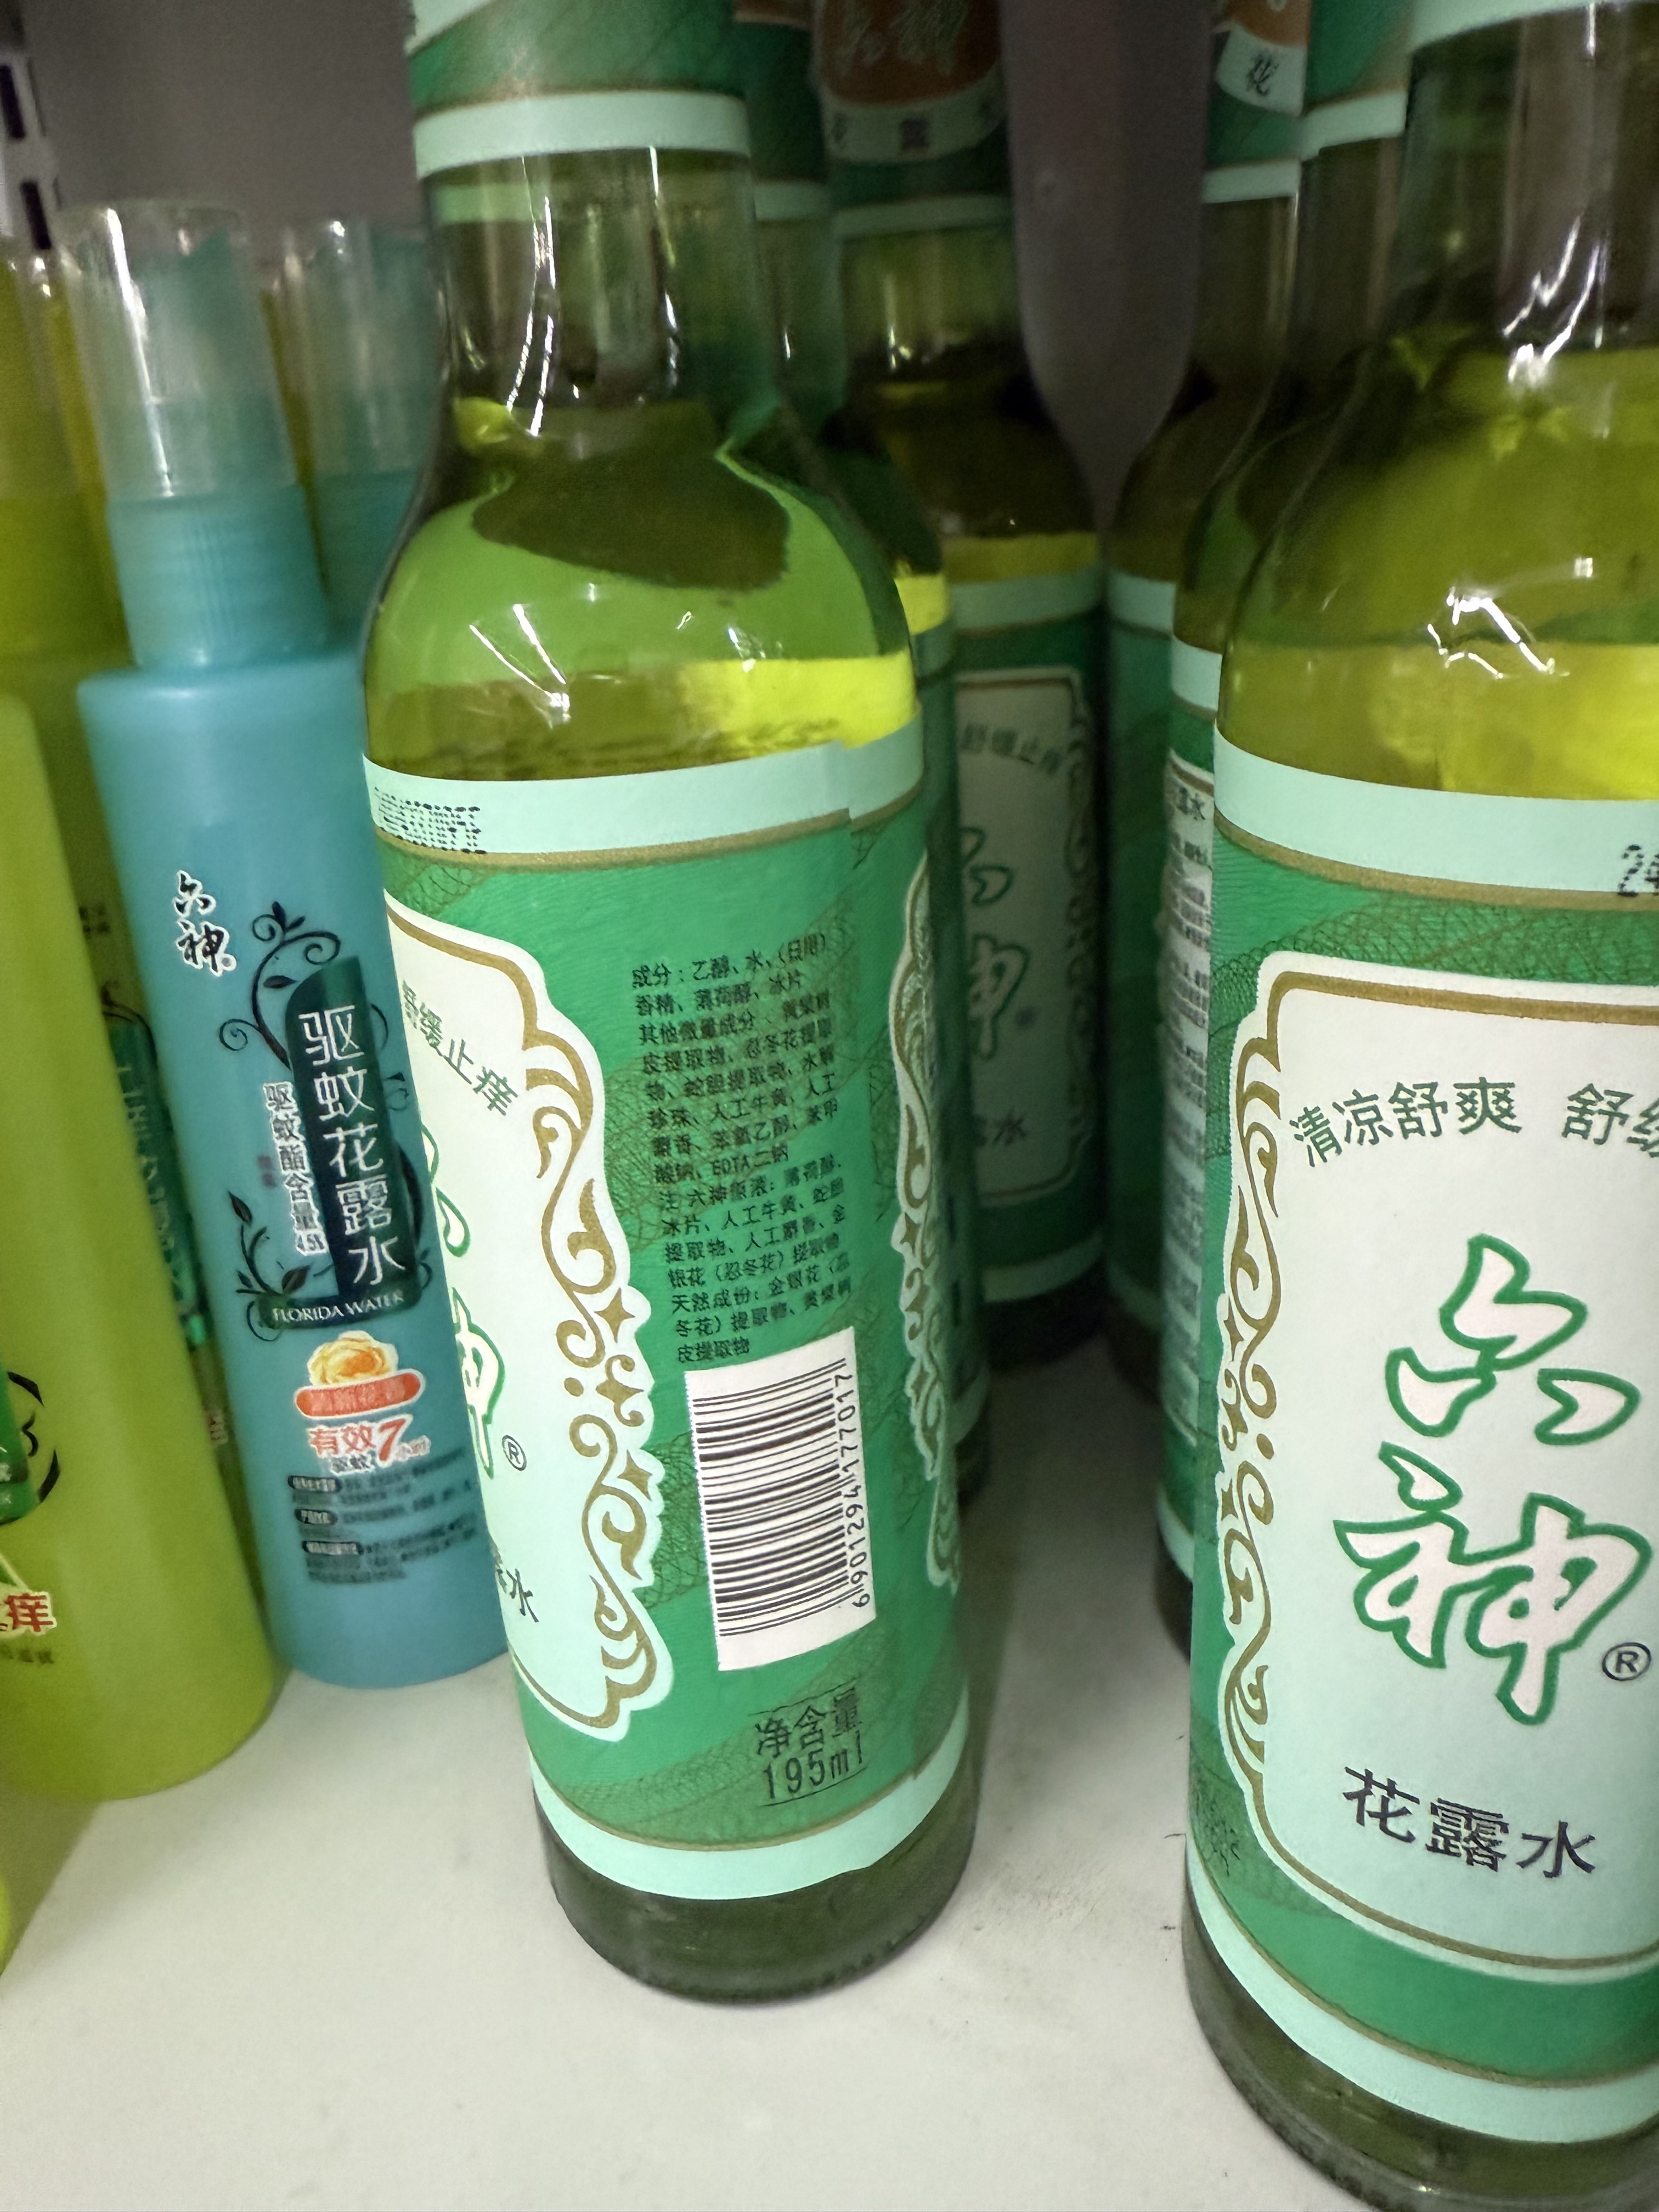bar: (687, 1350, 884, 1644)
